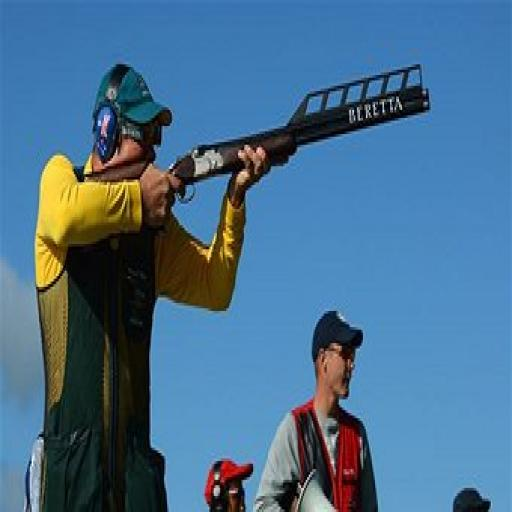shooting: (32, 59, 272, 509), (253, 306, 381, 509)
